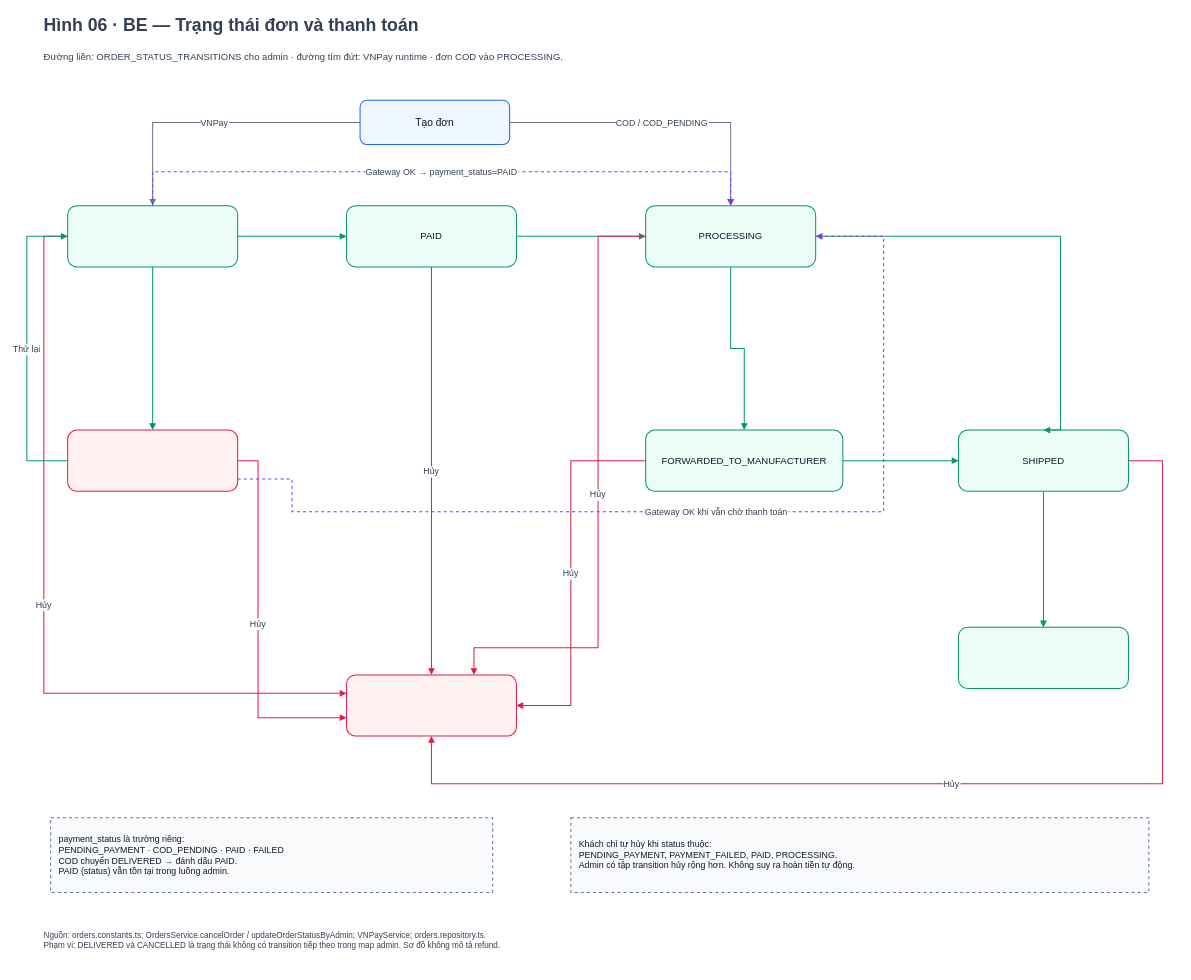
The diagram is 1191 pixels wide and 980 high, and some of its shapes have lost their labels. The centre of each missing label's shape, as x and y in pixels:
"CANCELLED" goes at (x=431, y=705).
"DELIVERED" goes at (x=1043, y=657).
"PAYMENT_FAILED" goes at (x=152, y=460).
"PENDING_PAYMENT" goes at (x=152, y=236).
